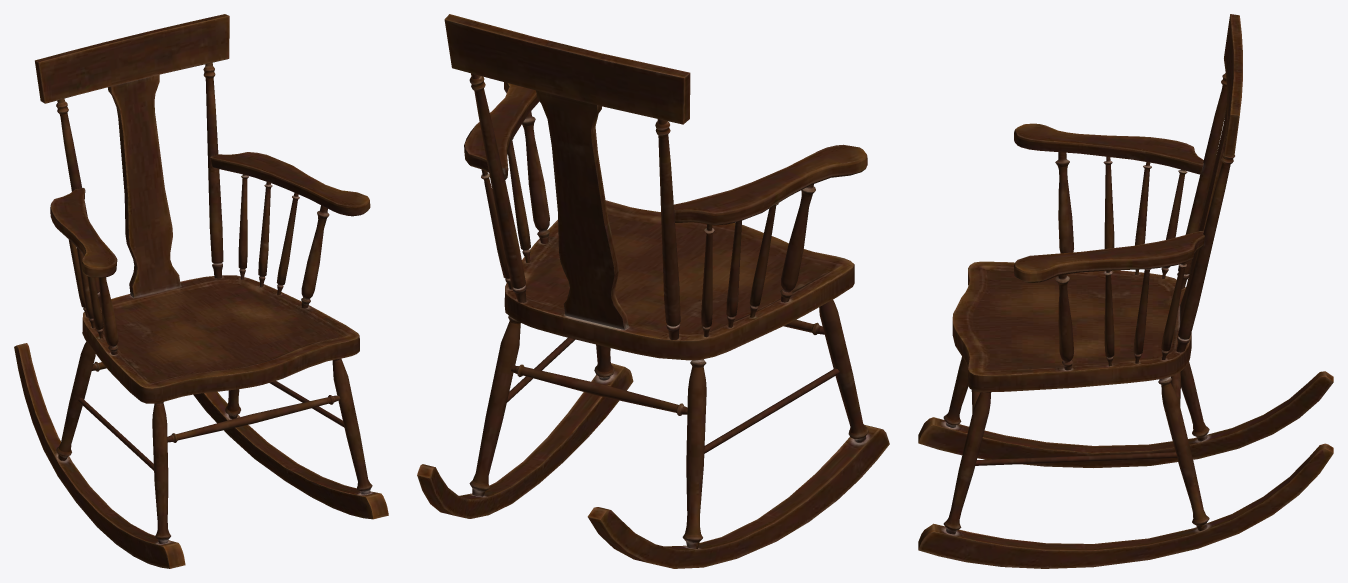
The model's file is Rockingchair_01.l.2784aed5.glb.
3 views of the same model, side by side, from view 1: azimuth 30°, elevation 25°; view 2: azimuth 150°, elevation 25°; view 3: azimuth 270°, elevation 25° (orthographic). The views are drawn at different scales.
Visible parts, largest first — view 1: Rockingchair_01; view 2: Rockingchair_01; view 3: Rockingchair_01.
Boxes of the visible parts, x1=… form: Rockingchair_01: x1=14, y1=14, x2=388, y2=568; Rockingchair_01: x1=417, y1=14, x2=889, y2=568; Rockingchair_01: x1=918, y1=14, x2=1333, y2=568.
Size of the model in its own units: 0.7081 by 0.9949 by 0.8335.
Materials: 1 (1 with a texture image).
